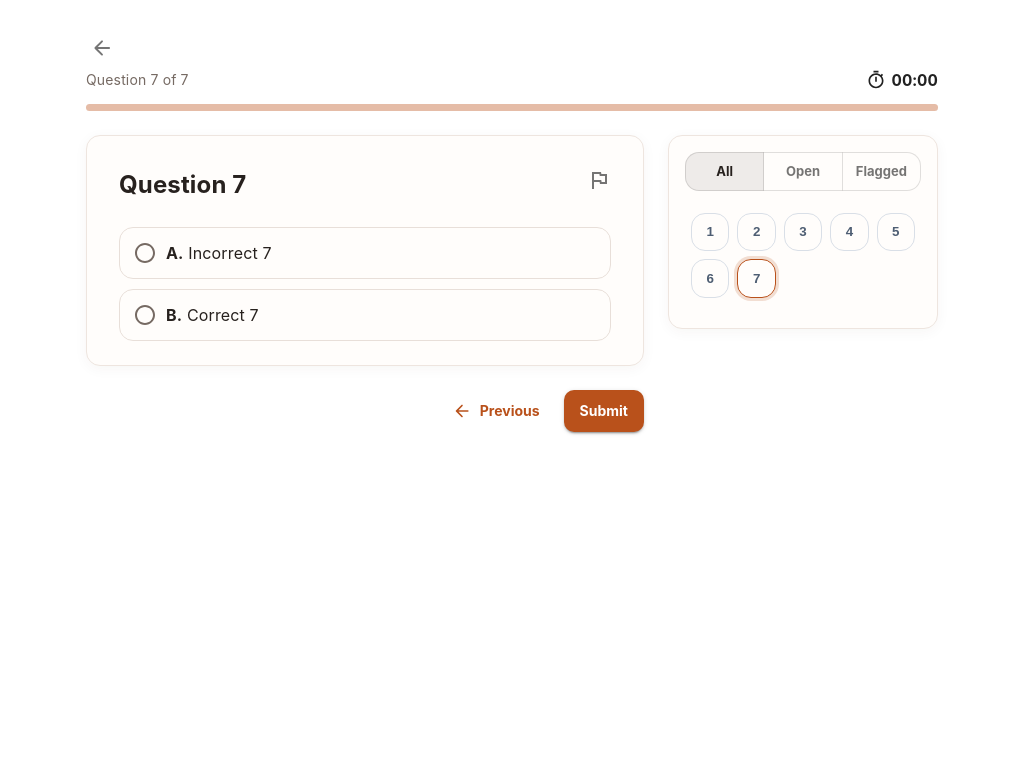
Test case: quiz submission confirmation › requires confirmation before Exam Mode can submit a quiz
Click the button "Submit" at (604, 411), box [564,390,644,432]
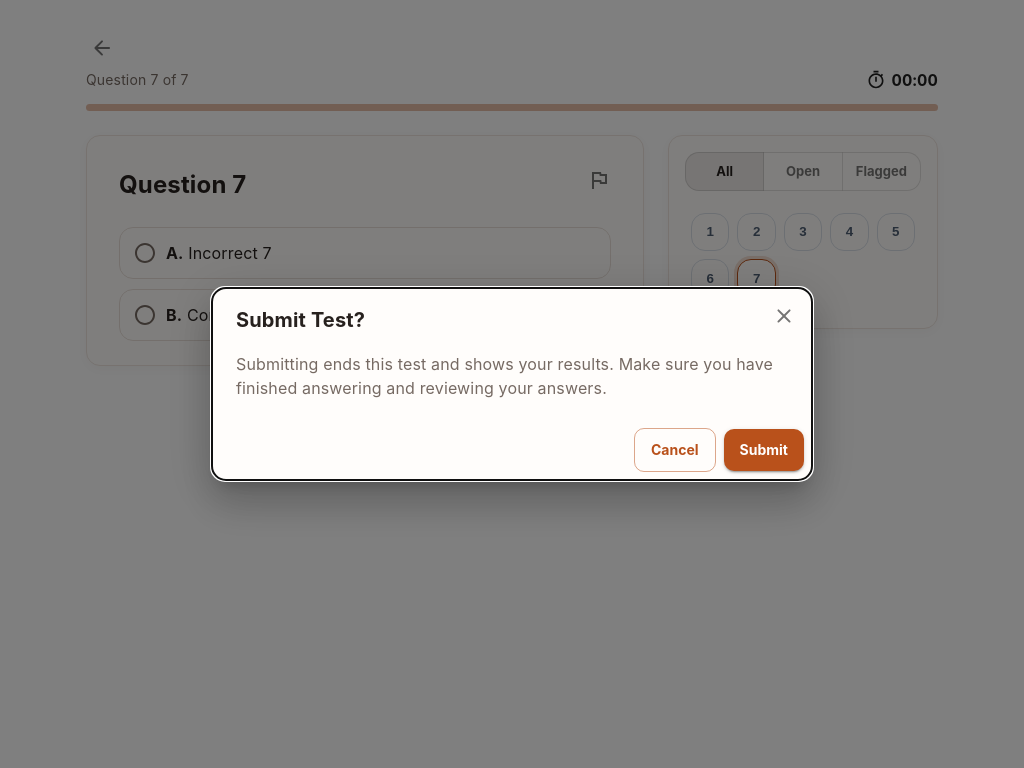
Expected: the dialog "Submit Test?" is shown, [212,288,812,480]
